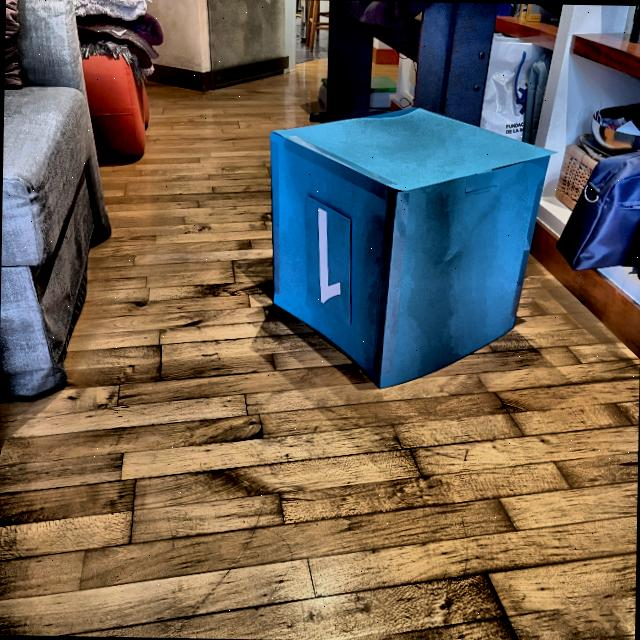blue box: (260, 98, 554, 394)
one: (311, 203, 345, 308)
